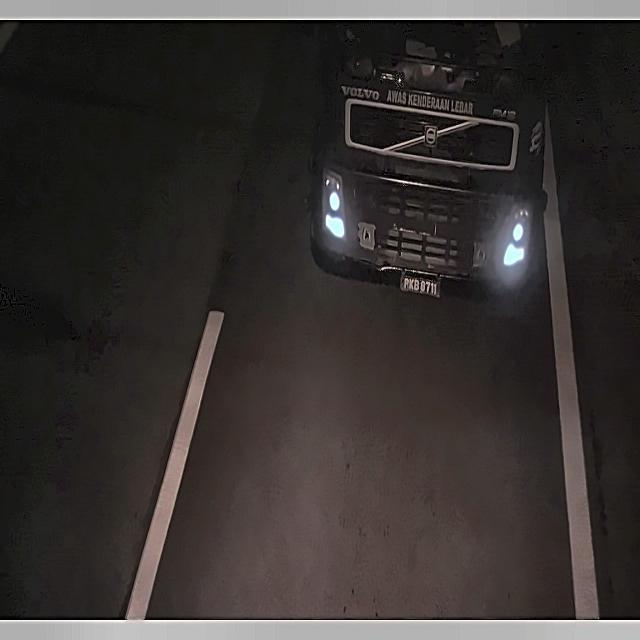car: (394, 265, 446, 298)
